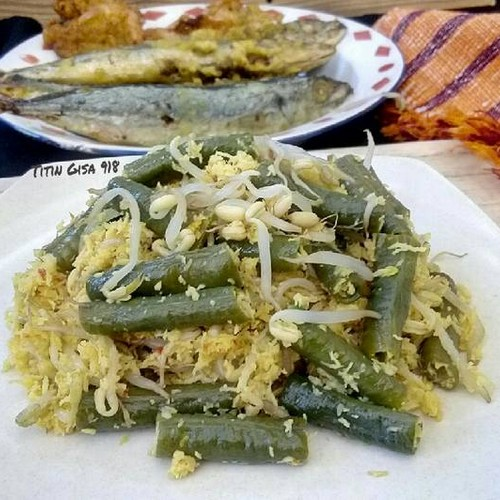jukut urap: (41, 129, 433, 463)
